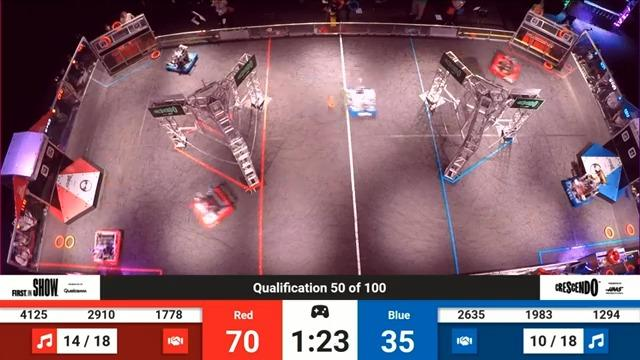robot: (182, 177, 239, 234), (556, 158, 611, 211), (86, 227, 131, 271), (483, 47, 526, 83), (343, 83, 382, 118), (165, 44, 201, 74)
